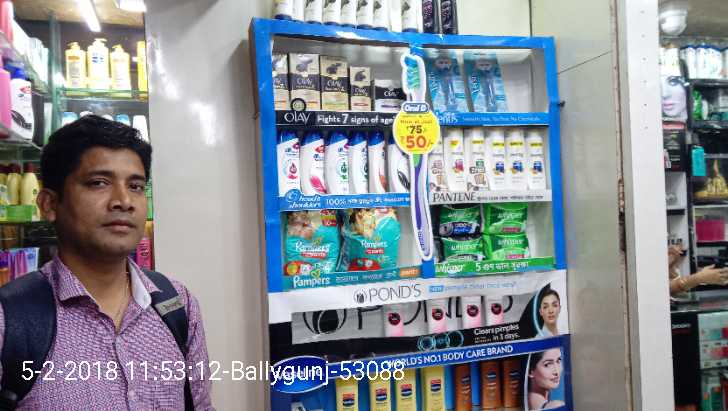venus: (434, 53, 466, 110), (473, 51, 501, 113)
